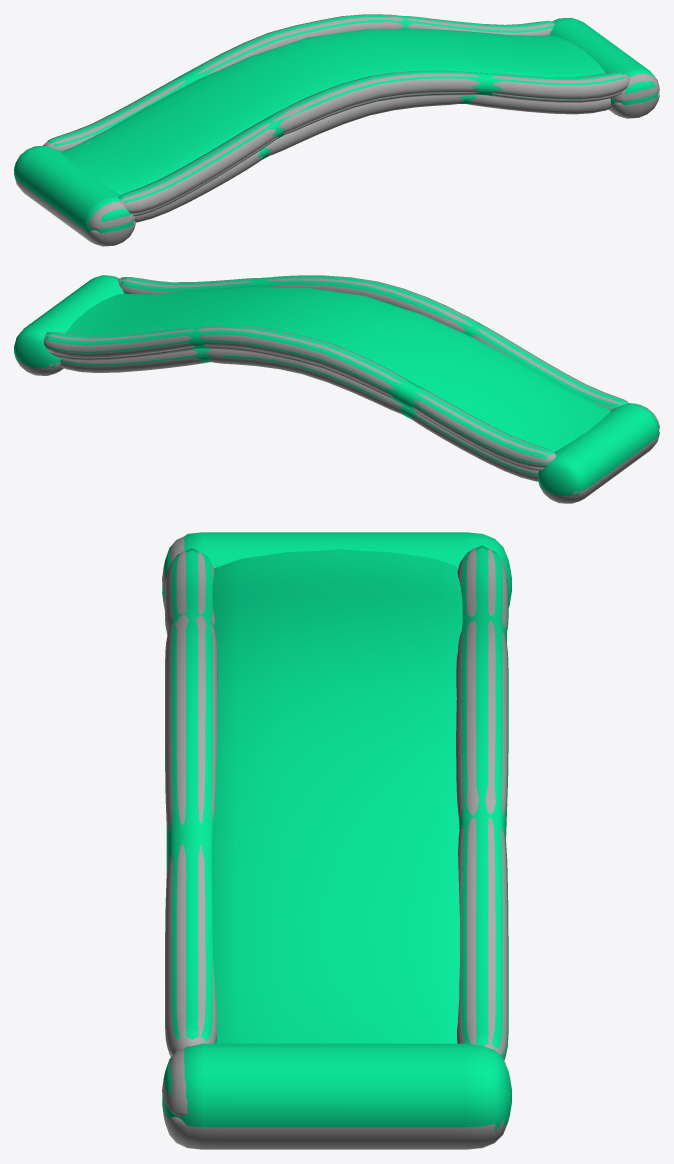
The model's file is PlaneBridge.fbx.
The picture shows the model from 3 angles, top to bottom: view 1: azimuth 30°, elevation 25°; view 2: azimuth 150°, elevation 25°; view 3: azimuth 270°, elevation 25°; orthographic projection. The views are drawn at different scales.
Parts seen in each view (by area): view 1: polySurface3197, polySurface3209, polySurface3208, polySurface3203, polySurface3206, polySurface3198, polySurface3201, polySurface3202, polySurface3204, polySurface3205; view 2: polySurface3197, polySurface3206, polySurface3201, polySurface3203, polySurface3207, polySurface3198, polySurface3209, polySurface3202, polySurface3200, polySurface3204, polySurface3205; view 3: polySurface3197, polySurface3202, polySurface3201, polySurface3198, polySurface3206, polySurface3209, polySurface3205, polySurface3203.
Part boxes in pixels (<box>): polySurface3197: <box>62,28,605,194</box>; polySurface3209: <box>119,70,629,216</box>; polySurface3208: <box>135,94,611,222</box>; polySurface3203: <box>14,145,135,233</box>; polySurface3206: <box>43,14,554,151</box>; polySurface3198: <box>118,71,625,202</box>; polySurface3201: <box>47,14,554,146</box>; polySurface3202: <box>549,17,659,105</box>; polySurface3204: <box>15,178,135,246</box>; polySurface3205: <box>608,73,659,118</box>; polySurface3197: <box>66,286,610,452</box>; polySurface3206: <box>43,325,556,471</box>; polySurface3201: <box>44,326,553,464</box>; polySurface3203: <box>538,403,659,495</box>; polySurface3207: <box>60,349,538,481</box>; polySurface3198: <box>120,276,627,407</box>; polySurface3209: <box>118,275,628,409</box>; polySurface3202: <box>14,275,124,367</box>; polySurface3200: <box>60,348,537,475</box>; polySurface3204: <box>539,404,659,503</box>; polySurface3205: <box>16,276,119,375</box>; polySurface3197: <box>212,549,462,1043</box>; polySurface3202: <box>162,1043,511,1132</box>; polySurface3201: <box>458,545,508,1057</box>; polySurface3198: <box>166,548,217,1043</box>; polySurface3206: <box>456,548,507,1060</box>; polySurface3209: <box>165,551,217,1057</box>; polySurface3205: <box>162,1049,507,1149</box>; polySurface3203: <box>162,532,511,607</box>.
Bounding box in the file's own units: 1819 × 318 × 482.
